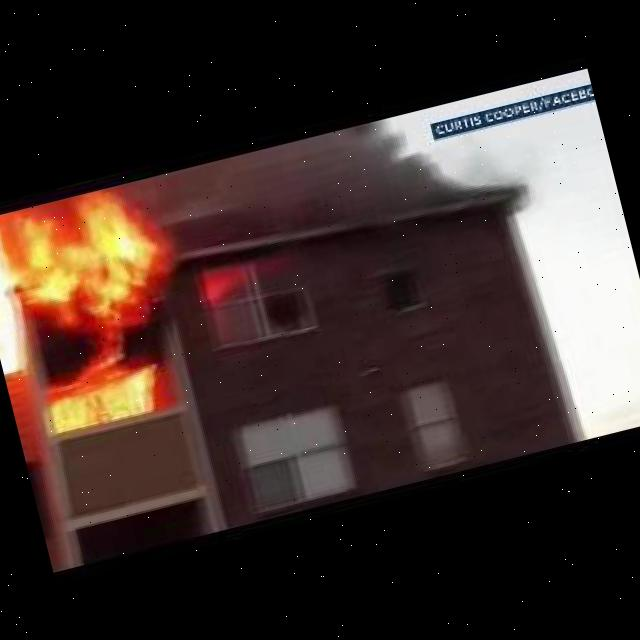fire: (0, 175, 210, 439)
